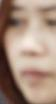without_mask: (2, 1, 56, 104)
